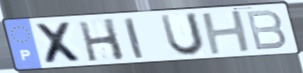B: (243, 9, 289, 53)
H: (199, 8, 255, 57), (75, 16, 128, 63)
I: (121, 16, 147, 60)
U: (158, 11, 208, 58)
X: (32, 21, 88, 66)
